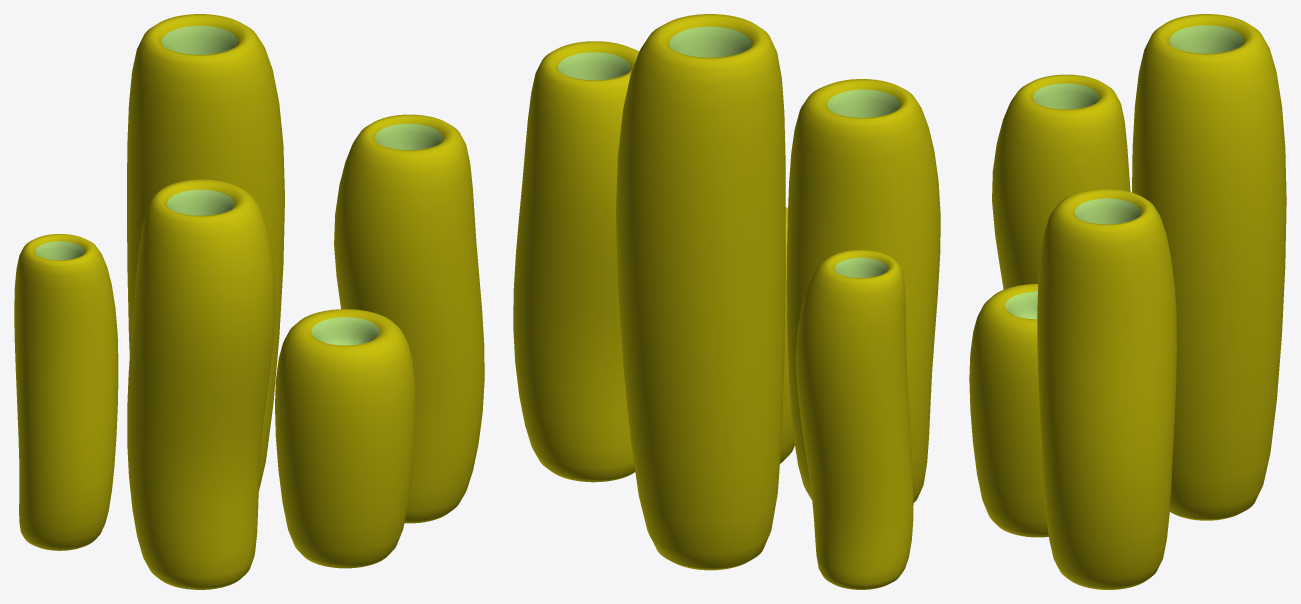
The model's file is SmoothCoral2.fbx.
3 views of the same model, side by side, from view 1: azimuth 30°, elevation 25°; view 2: azimuth 150°, elevation 25°; view 3: azimuth 270°, elevation 25° (orthographic). The views are drawn at different scales.
Visible parts, largest first — view 1: pCylinder16; view 2: pCylinder16; view 3: pCylinder16.
Part boxes in pixels (bbox=[...]): pCylinder16: bbox=[14, 14, 484, 589]; pCylinder16: bbox=[513, 14, 940, 589]; pCylinder16: bbox=[969, 14, 1286, 589].
Size of the model in its own units: 3.7 by 4.19 by 2.58.
